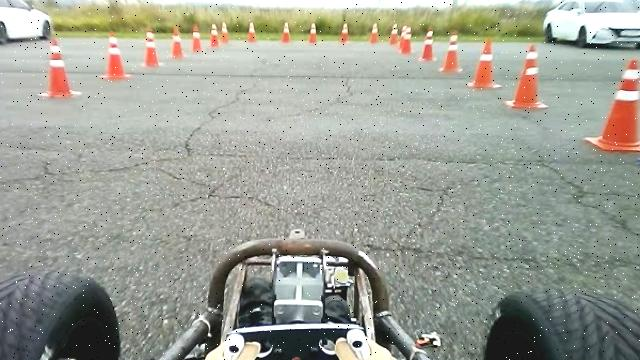red cone: (586, 57, 640, 152), (506, 43, 549, 109), (37, 38, 82, 98), (468, 36, 502, 89), (99, 33, 132, 79), (439, 32, 464, 73), (142, 30, 160, 68), (418, 29, 437, 62), (172, 23, 186, 58), (399, 26, 413, 54), (192, 24, 203, 52), (210, 23, 220, 47), (389, 22, 399, 44), (308, 22, 318, 43), (370, 22, 380, 43), (340, 22, 350, 42), (248, 21, 257, 42), (282, 21, 291, 41), (221, 21, 229, 42)
